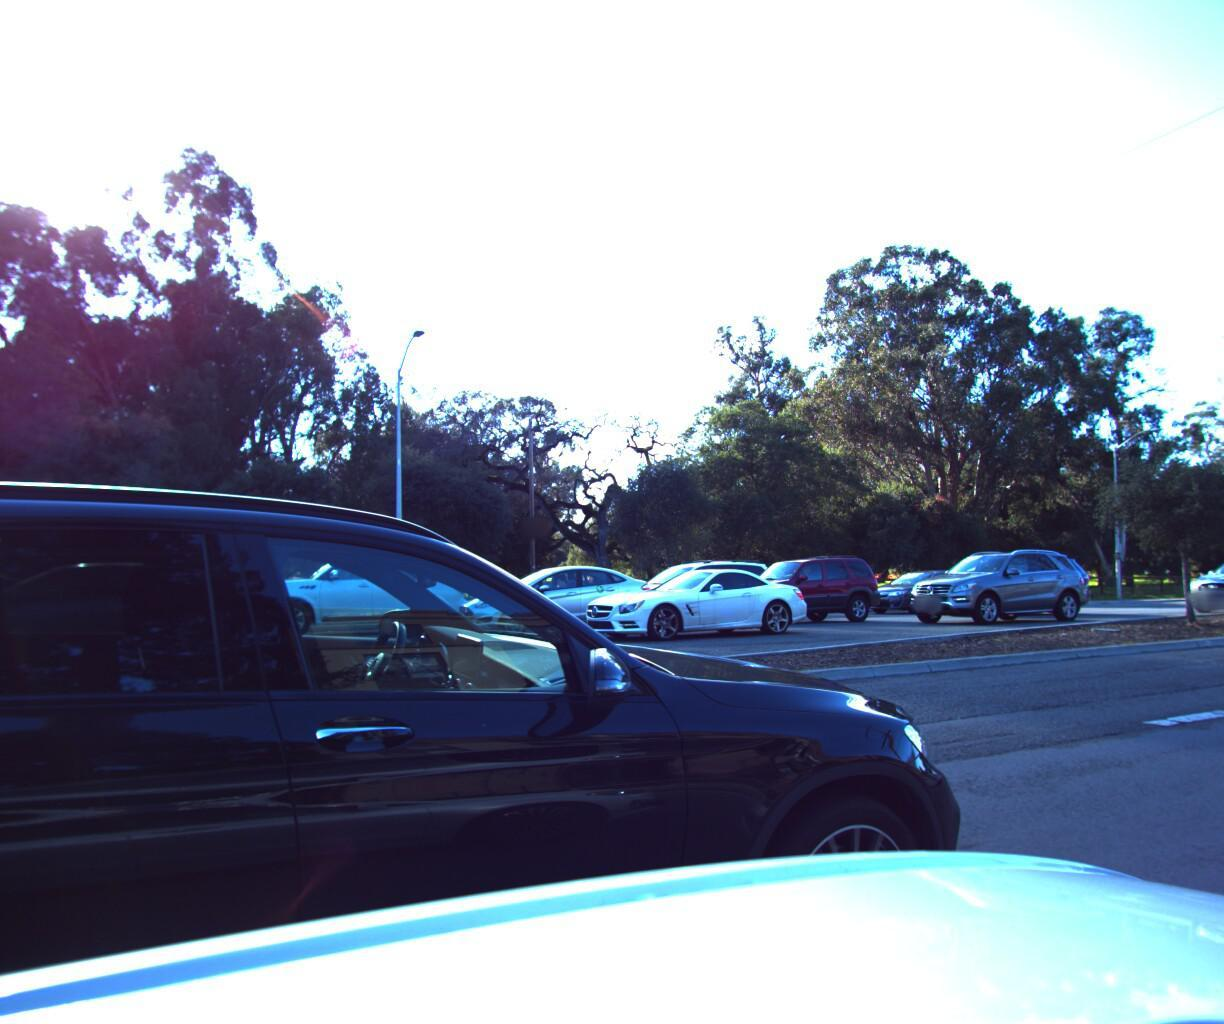car: (0, 384, 1028, 1024), (234, 543, 483, 638), (564, 562, 825, 642), (444, 559, 669, 637), (890, 540, 1095, 624), (700, 548, 888, 623), (608, 553, 789, 622), (920, 546, 1098, 613), (856, 565, 993, 611), (1174, 542, 1224, 608)
